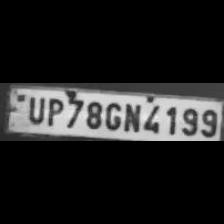1: (162, 104, 178, 136)
4: (140, 100, 162, 134)
7: (62, 96, 82, 128)
8: (84, 99, 103, 131)
9: (198, 105, 218, 138), (180, 104, 198, 136)
G: (102, 100, 120, 132)
N: (122, 100, 140, 132)
P: (43, 96, 62, 127)
U: (23, 94, 45, 125)
